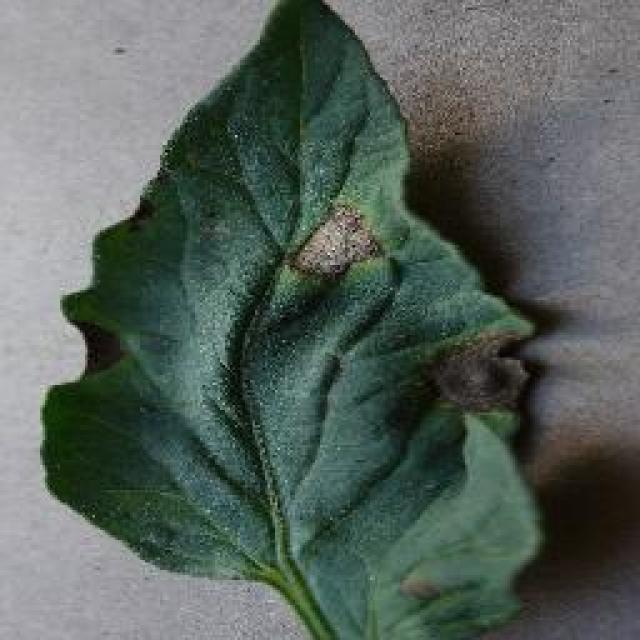Tomato___Early_blight: (39, 0, 550, 638)
